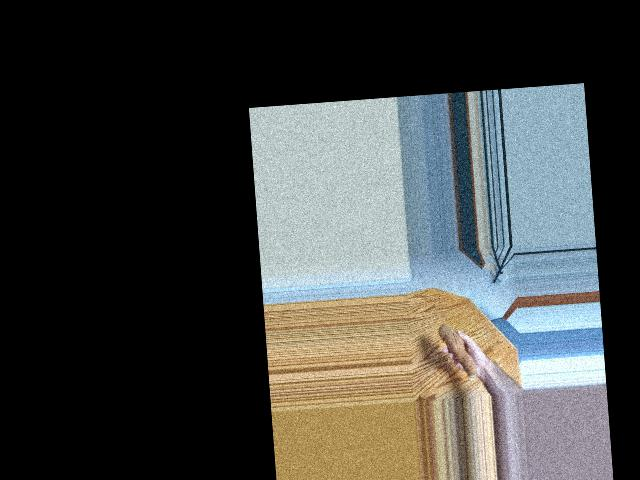sweet_potato: (437, 319, 482, 383)
